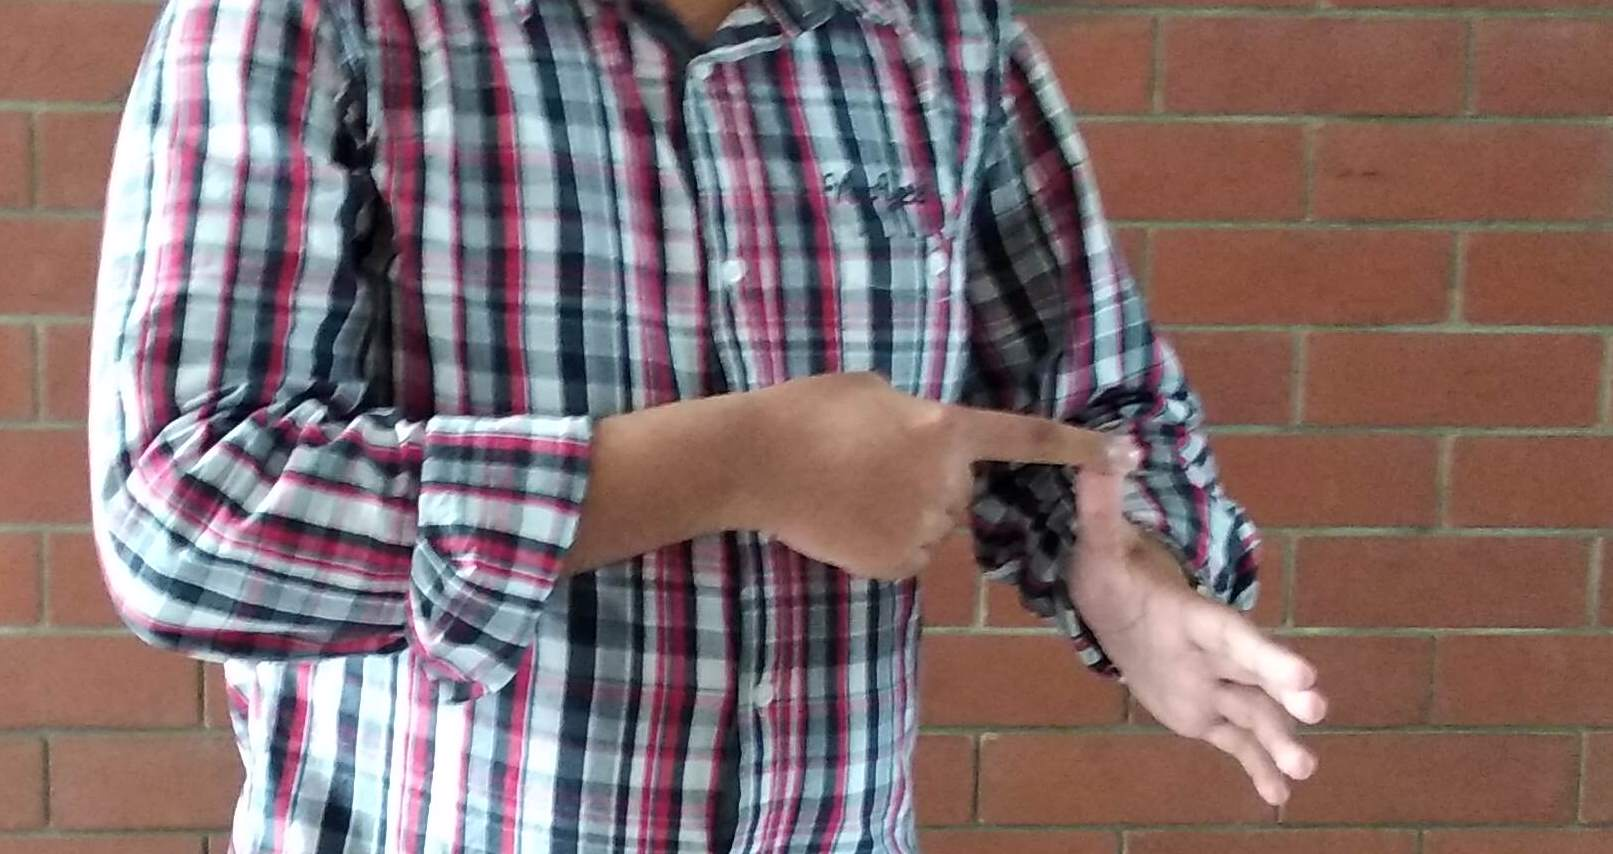a: (746, 388, 1320, 788)
